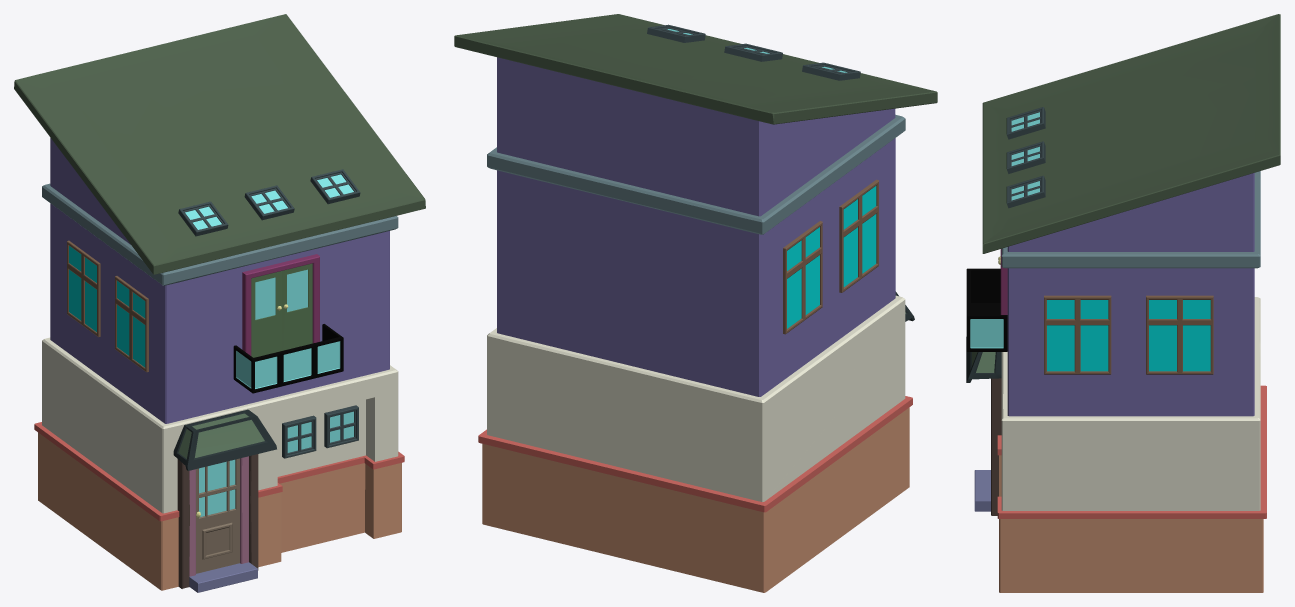
The model's file is Casa_02.fbx.
The picture shows the model from 3 angles, left to right: view 1: azimuth 30°, elevation 25°; view 2: azimuth 150°, elevation 25°; view 3: azimuth 270°, elevation 25°; orthographic projection. The views are drawn at different scales.
Parts seen in each view (by area): view 1: polySurface169; view 2: polySurface169; view 3: polySurface169.
Boxes of the visible parts, x1,y1,x2,y2 form: polySurface169: (14,14,425,592); polySurface169: (454,14,937,592); polySurface169: (966,14,1280,592).
Bounding box in the file's own units: 996 × 1462 × 933.
